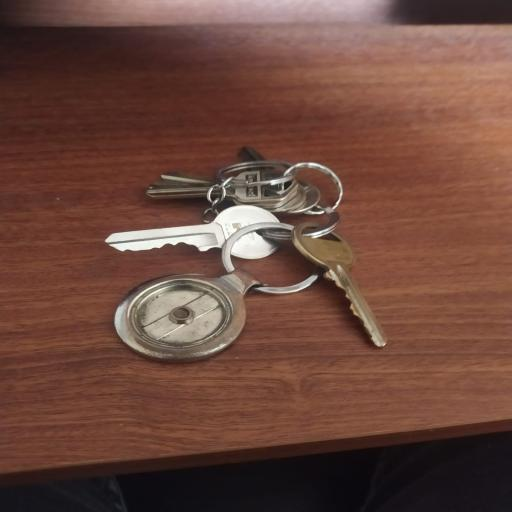Llaves: (104, 139, 400, 370)
